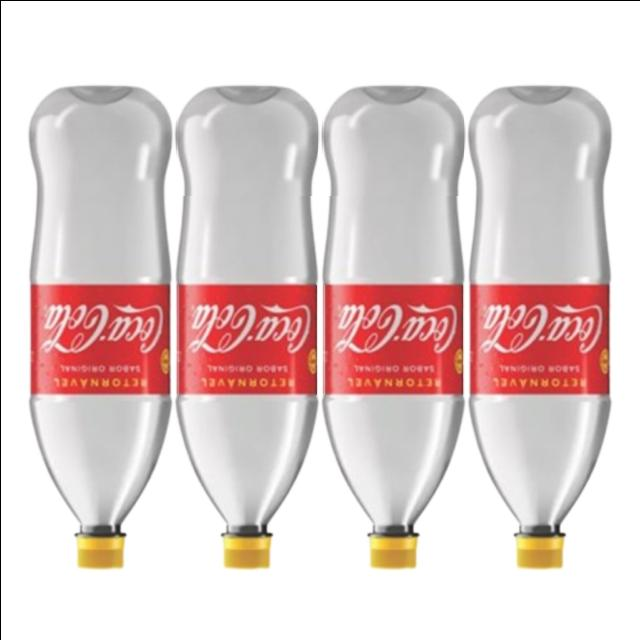bottom: (30, 87, 170, 207), (322, 86, 463, 195), (176, 87, 316, 195), (469, 87, 610, 187)
label: (470, 284, 609, 394), (323, 284, 462, 394), (30, 284, 169, 394), (177, 284, 315, 394)
